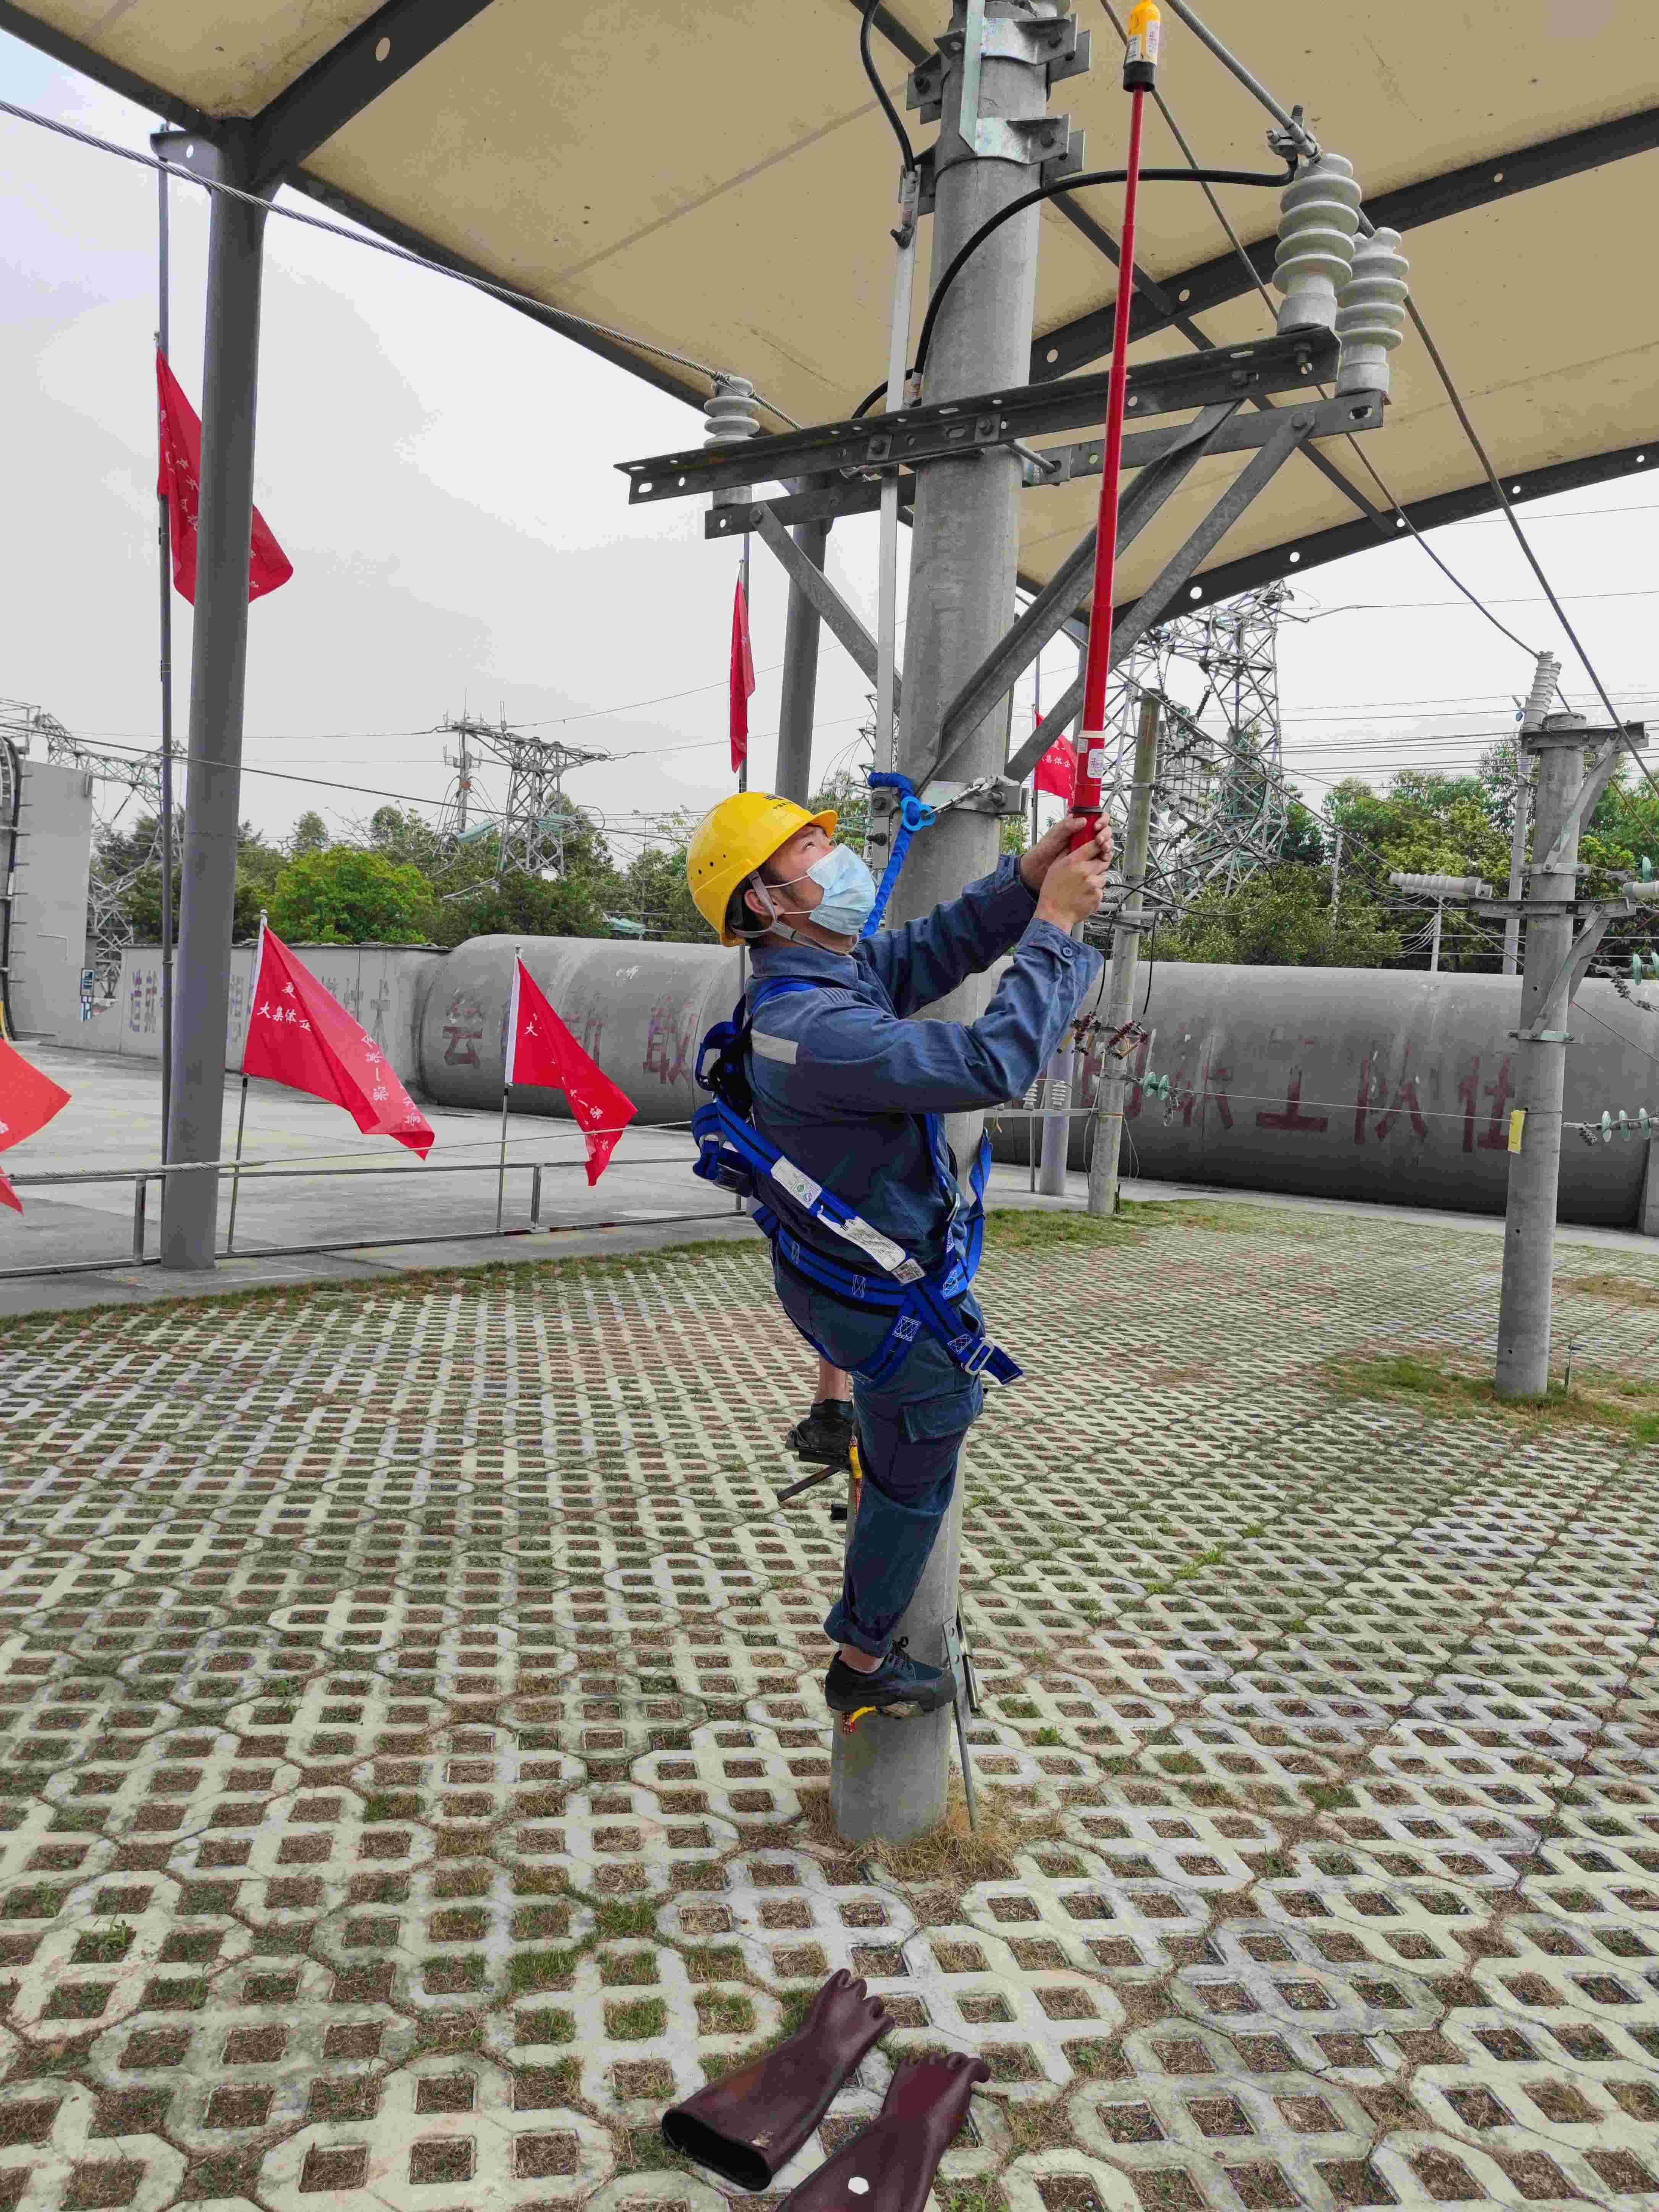downsuit: (784, 1303, 990, 1665)
upsuit: (714, 942, 1105, 1292)
